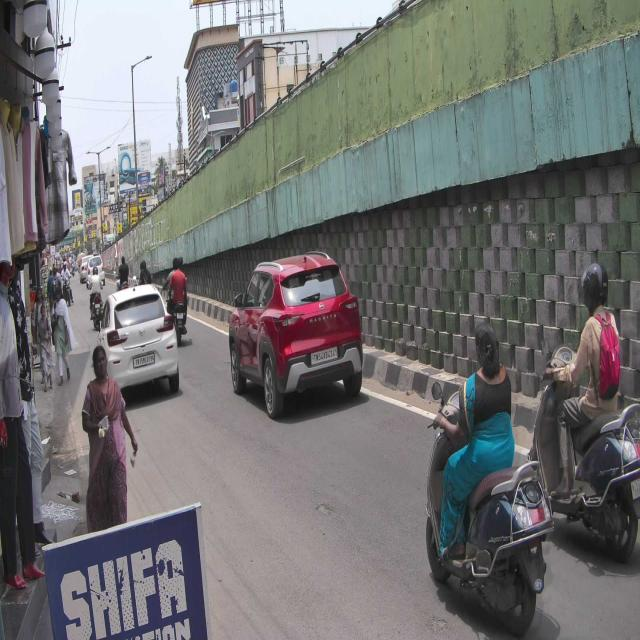single_rider: (424, 316, 550, 640), (554, 253, 640, 555)
